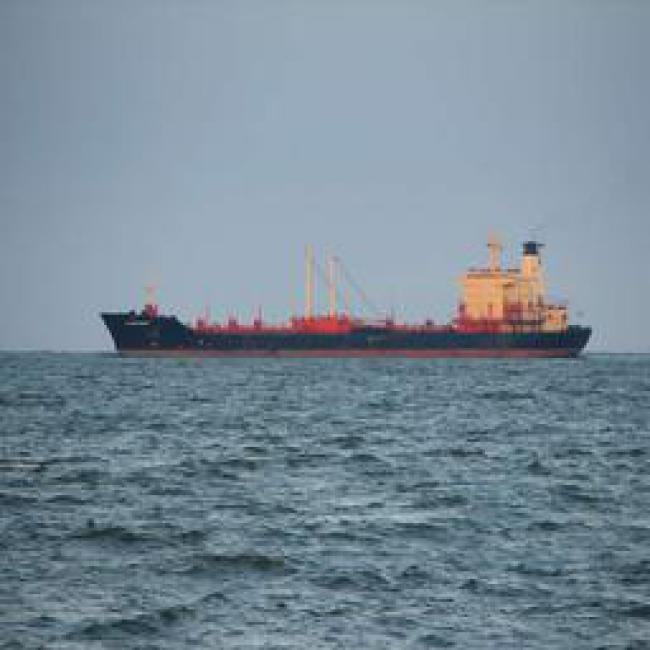Ship: (64, 257, 601, 368)
